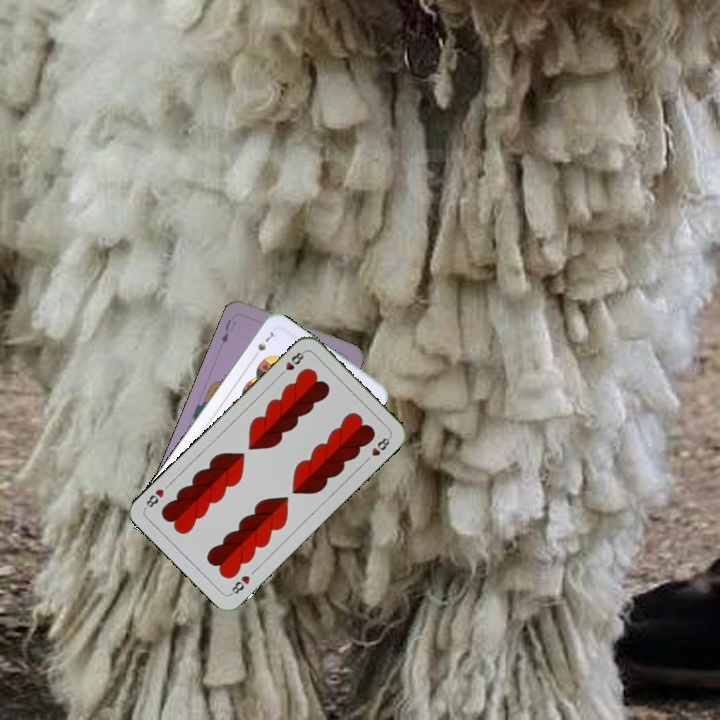EU: (217, 315, 238, 346)
H8: (275, 347, 308, 379), (226, 572, 253, 598)
S7: (249, 328, 276, 361)
